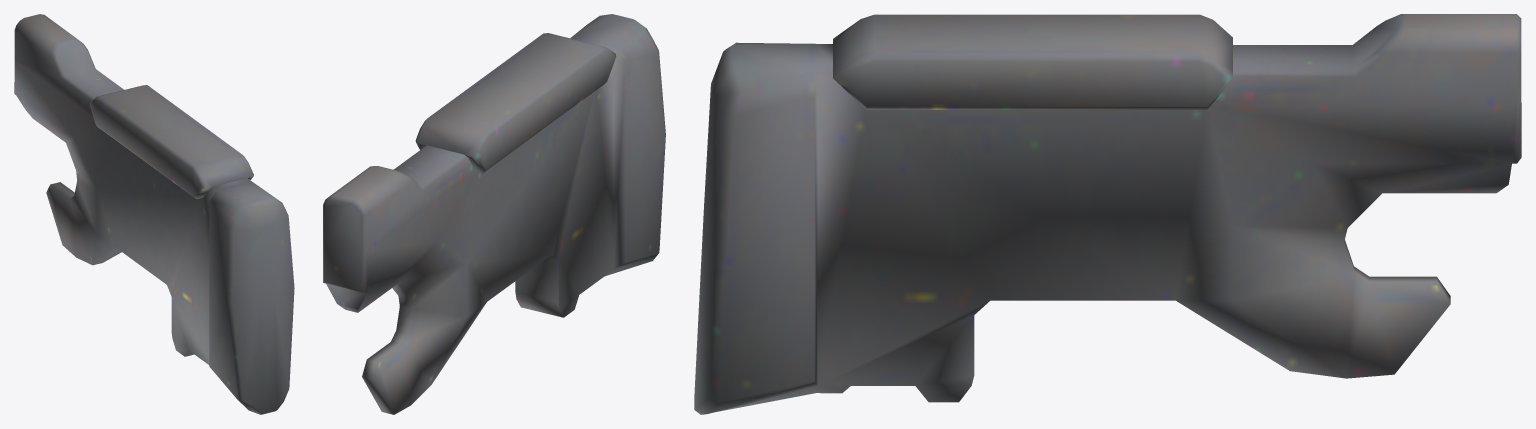
File: stock1.obj
3 views of the same model, side by side, from view 1: azimuth 30°, elevation 25°; view 2: azimuth 150°, elevation 25°; view 3: azimuth 270°, elevation 25° (orthographic). The views are drawn at different scales.
Visible parts, largest first — view 1: stock1; view 2: stock1; view 3: stock1.
Part boxes in pixels (x1,y1,x2,y2): stock1: (14,14,294,414); stock1: (323,14,665,414); stock1: (694,14,1521,414).
Bounding box in the file's own units: 5.36 × 17.17 × 33.24.
